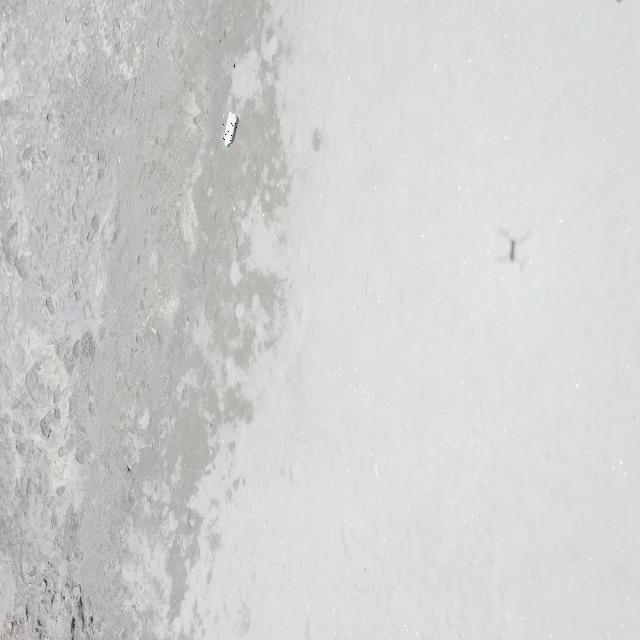plastic-bottle: (223, 113, 237, 149)
